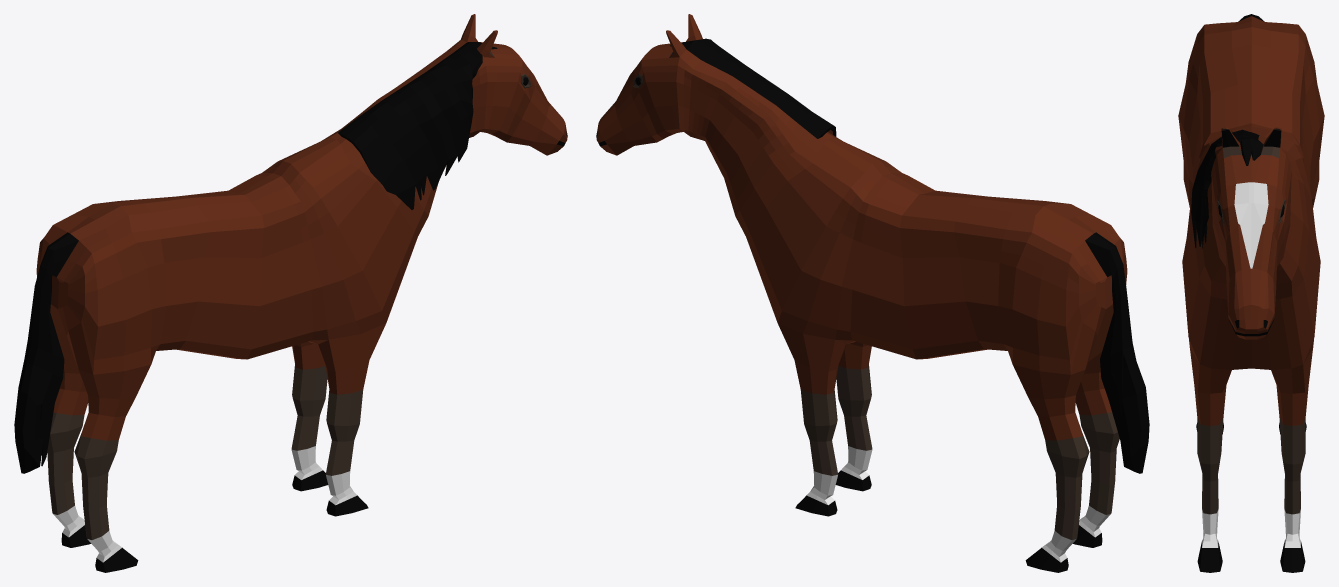
The model's file is horse.fbx.
The picture shows the model from 3 angles, left to right: view 1: azimuth 30°, elevation 25°; view 2: azimuth 150°, elevation 25°; view 3: azimuth 270°, elevation 25°; orthographic projection. The views are drawn at different scales.
Parts seen in each view (by area): view 1: Plane, Plane.002, Plane.001, Plane.003; view 2: Plane, Plane.002, Plane.001, Plane.003; view 3: Plane, Plane.001, Plane.002.
Part boxes in pixels (left/top/right/bottom): Plane: left=36, top=137, right=417, bottom=374; Plane.002: left=47, top=323, right=385, bottom=572; Plane.001: left=322, top=14, right=567, bottom=235; Plane.003: left=14, top=232, right=78, bottom=473; Plane: left=746, top=137, right=1127, bottom=374; Plane.002: left=778, top=323, right=1119, bottom=572; Plane.001: left=596, top=14, right=841, bottom=235; Plane.003: left=1085, top=232, right=1149, bottom=473; Plane: left=1178, top=16, right=1324, bottom=369; Plane.001: left=1191, top=127, right=1308, bottom=339; Plane.002: left=1184, top=183, right=1318, bottom=572.
Size of the model in its own units: 224 by 170 by 42.98.
